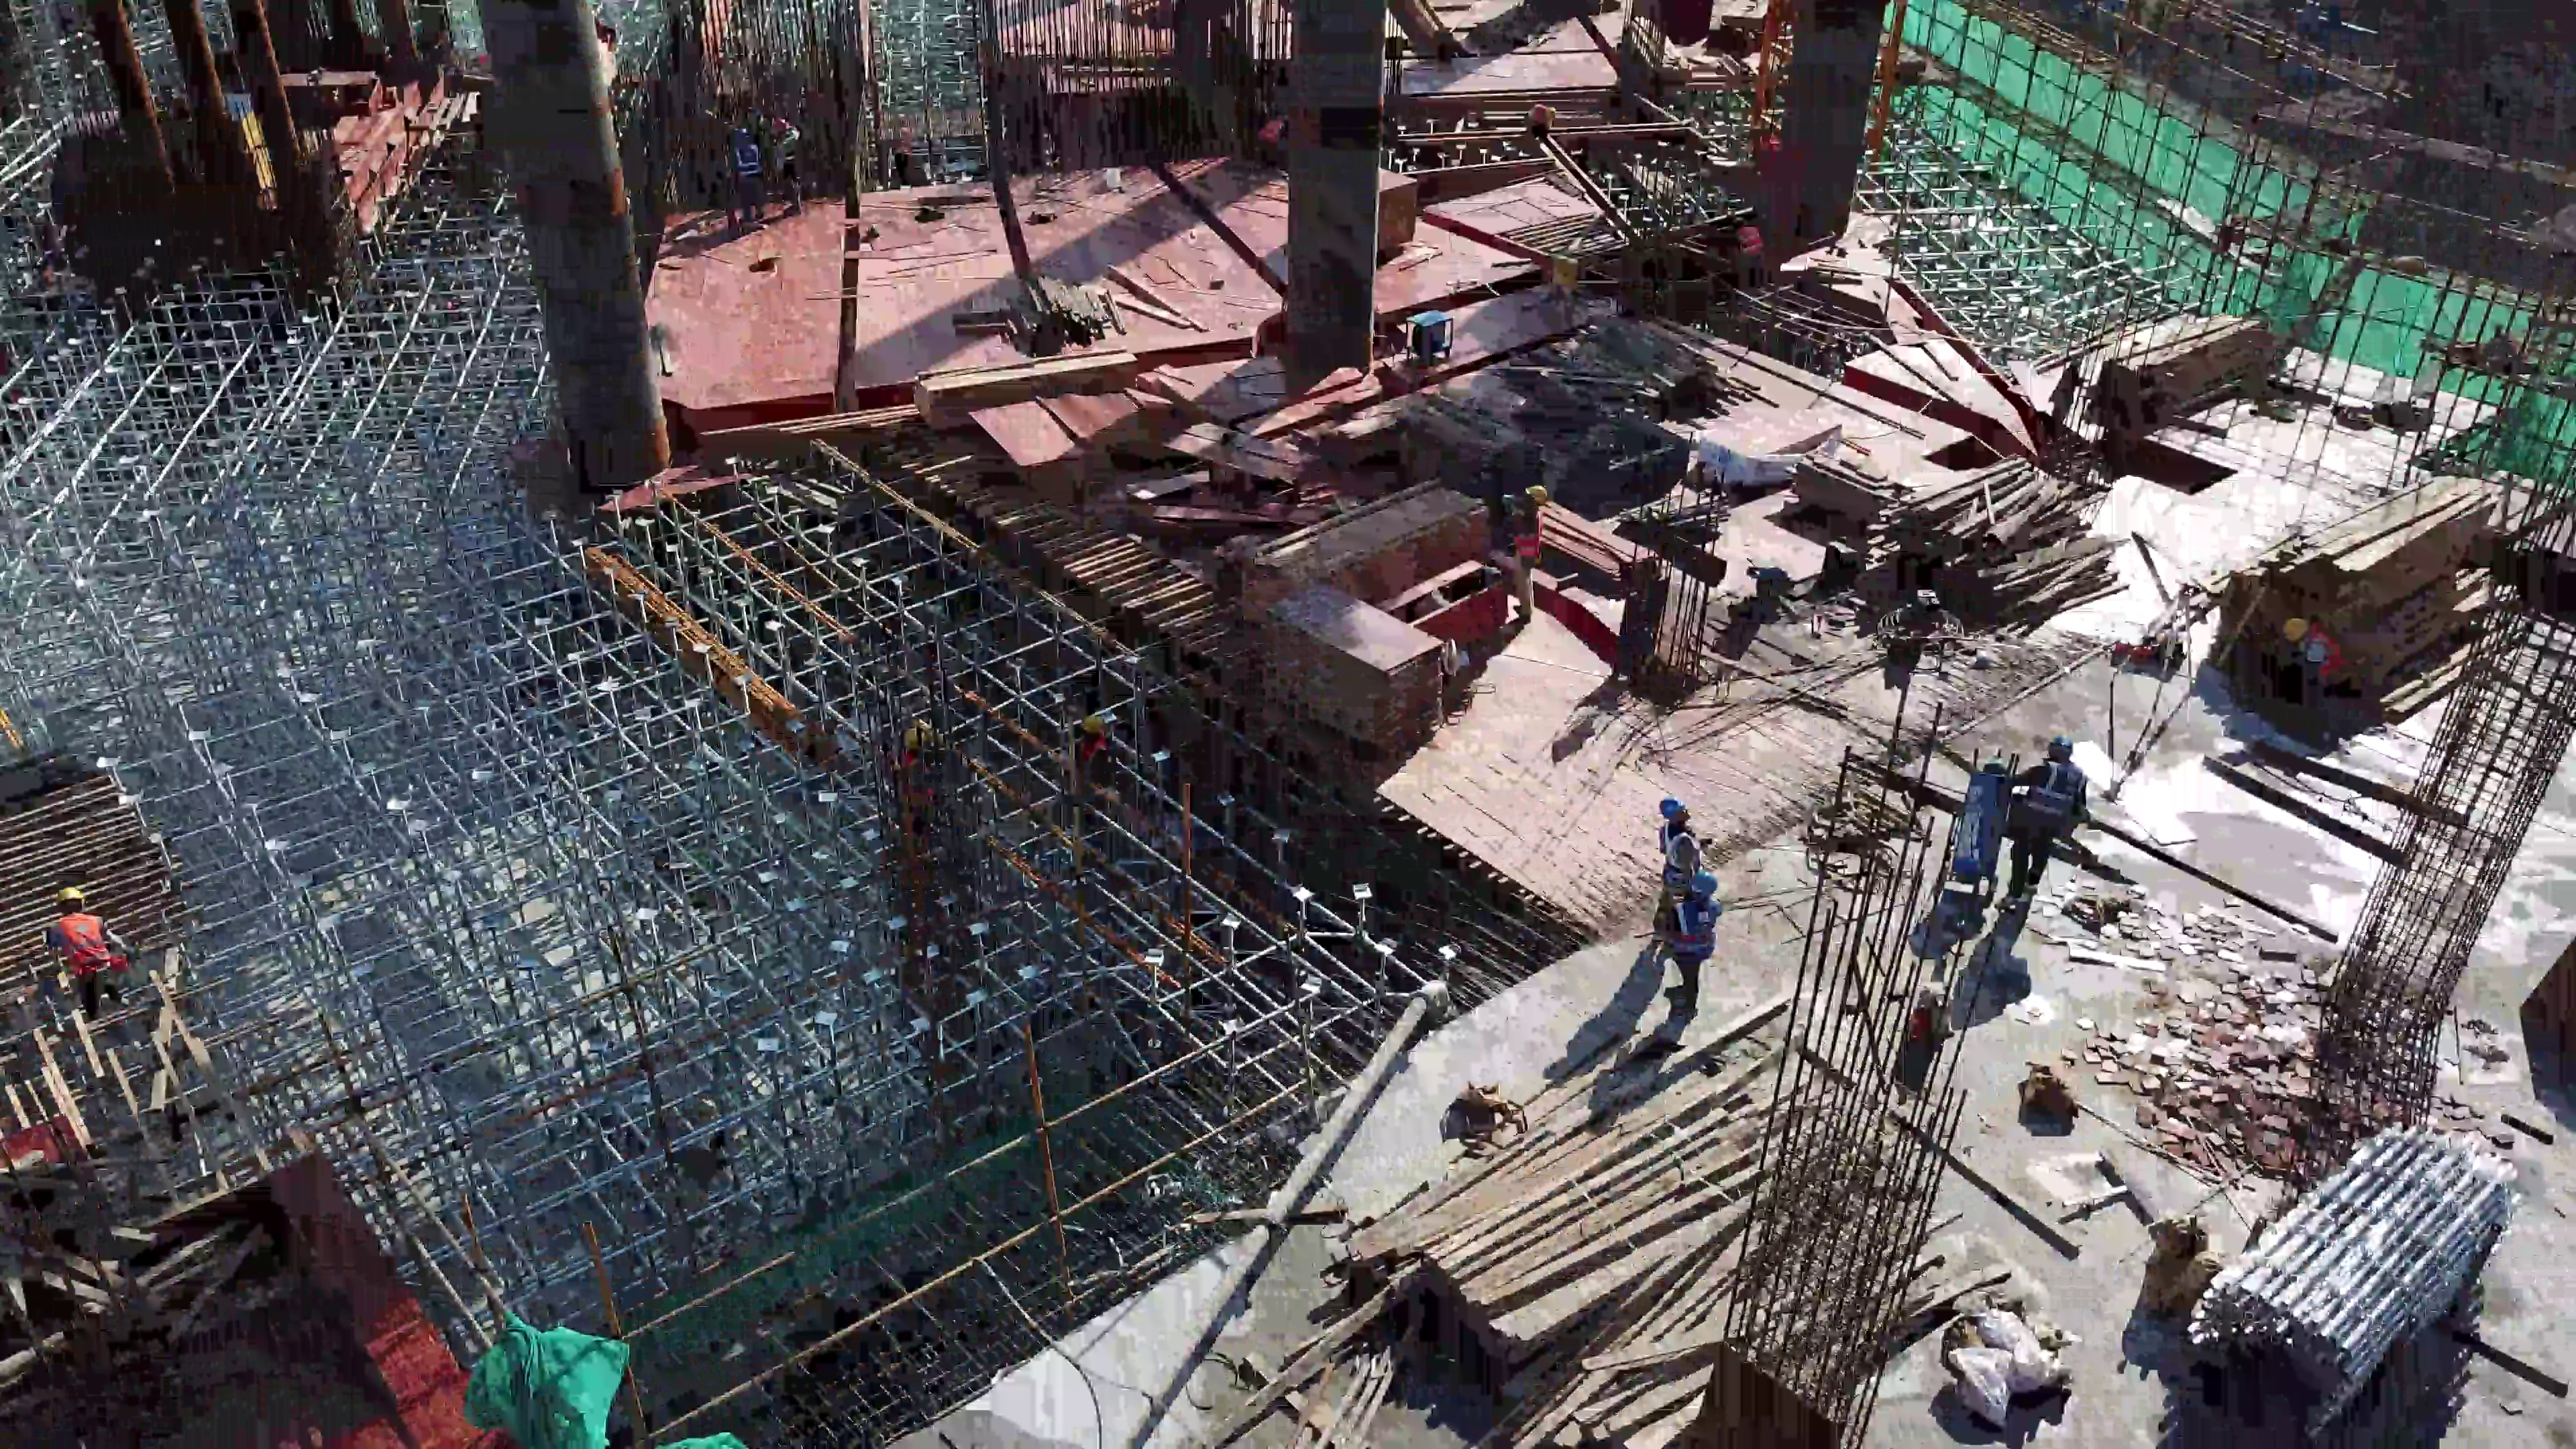ebox: (1548, 247, 1583, 306)
helmet: (1682, 871, 1720, 900), (54, 885, 93, 912), (2044, 737, 2084, 760), (1519, 481, 1550, 508), (2282, 614, 2311, 643), (1656, 792, 1684, 818), (902, 730, 932, 751), (726, 127, 757, 147), (1081, 715, 1110, 735), (777, 112, 794, 129)
person: (1991, 735, 2116, 914), (38, 875, 149, 1023), (1651, 869, 1738, 1012), (1493, 478, 1565, 629), (2273, 608, 2375, 715), (1066, 715, 1122, 852), (888, 725, 955, 841), (712, 125, 781, 228), (1643, 790, 1709, 883), (2034, 356, 2096, 447), (1722, 212, 1780, 289), (1745, 119, 1794, 199), (775, 111, 812, 218), (1514, 98, 1565, 148), (1250, 107, 1294, 170)
scaffold: (2173, 1103, 2539, 1421)
vest: (47, 914, 121, 979), (2028, 761, 2083, 831), (1672, 899, 1718, 957), (1512, 510, 1545, 557), (730, 146, 763, 178), (1740, 227, 1764, 254)
wood: (1359, 1061, 1922, 1438), (2202, 466, 2513, 685), (2096, 288, 2265, 445)
